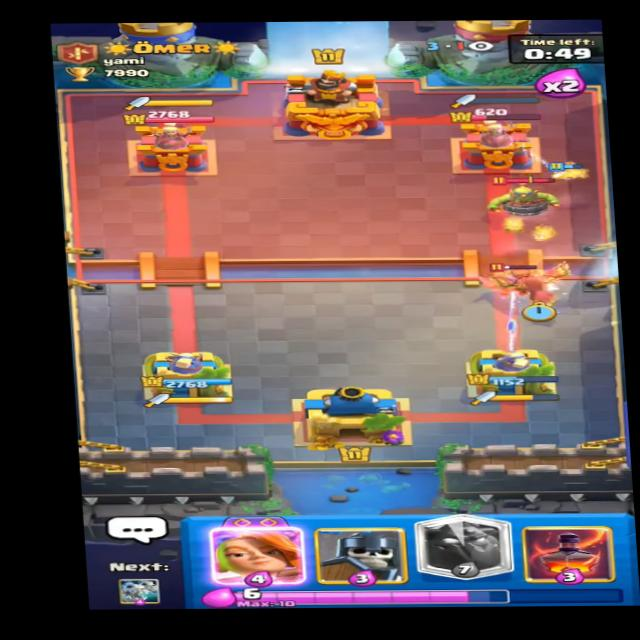goblin-demolisher: (486, 179, 571, 223)
